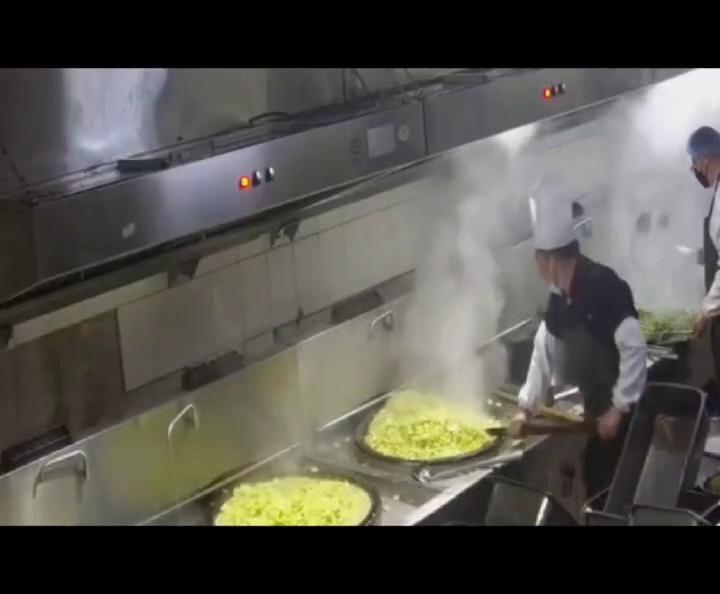mask: (534, 254, 564, 296)
